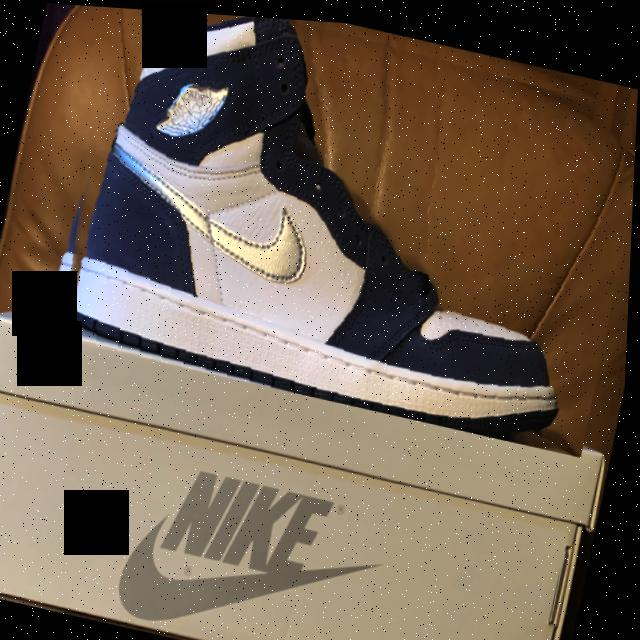shoe: (37, 3, 640, 452)
